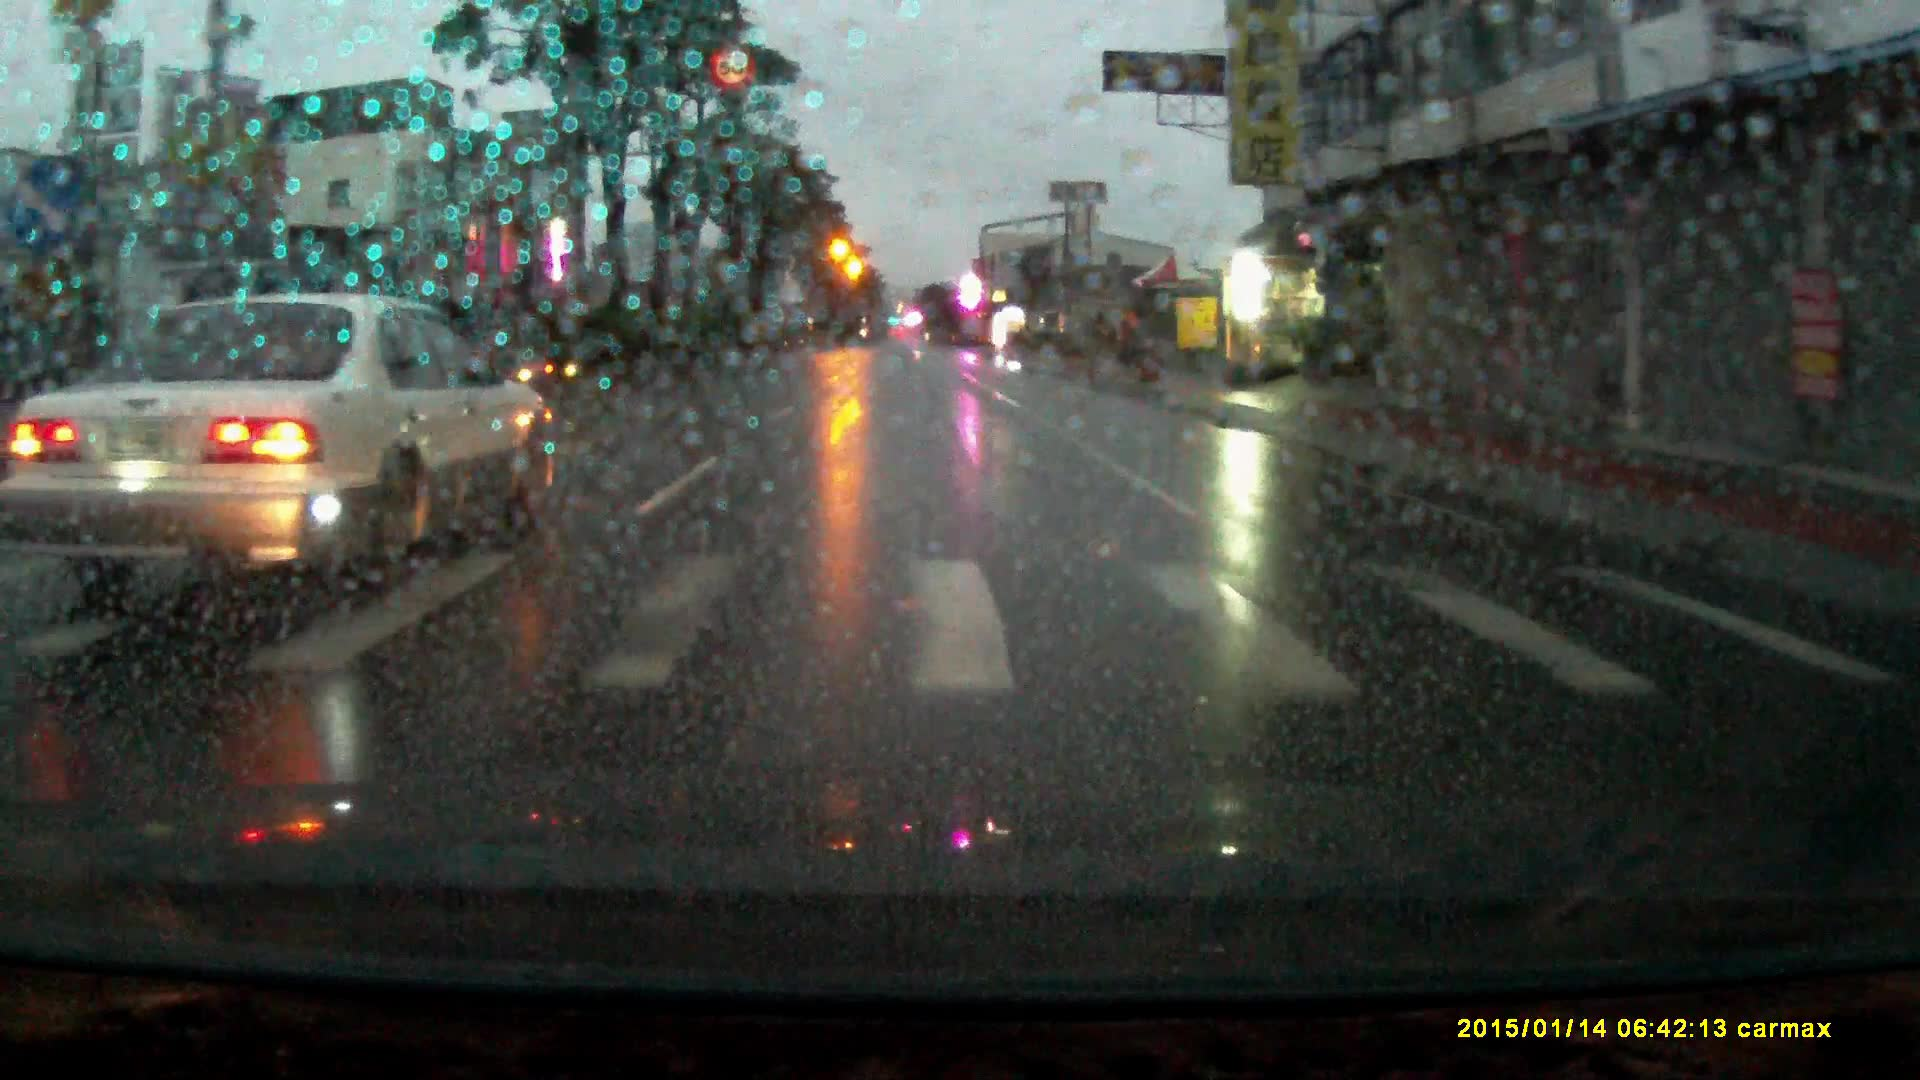vehicle: (18, 281, 545, 596)
